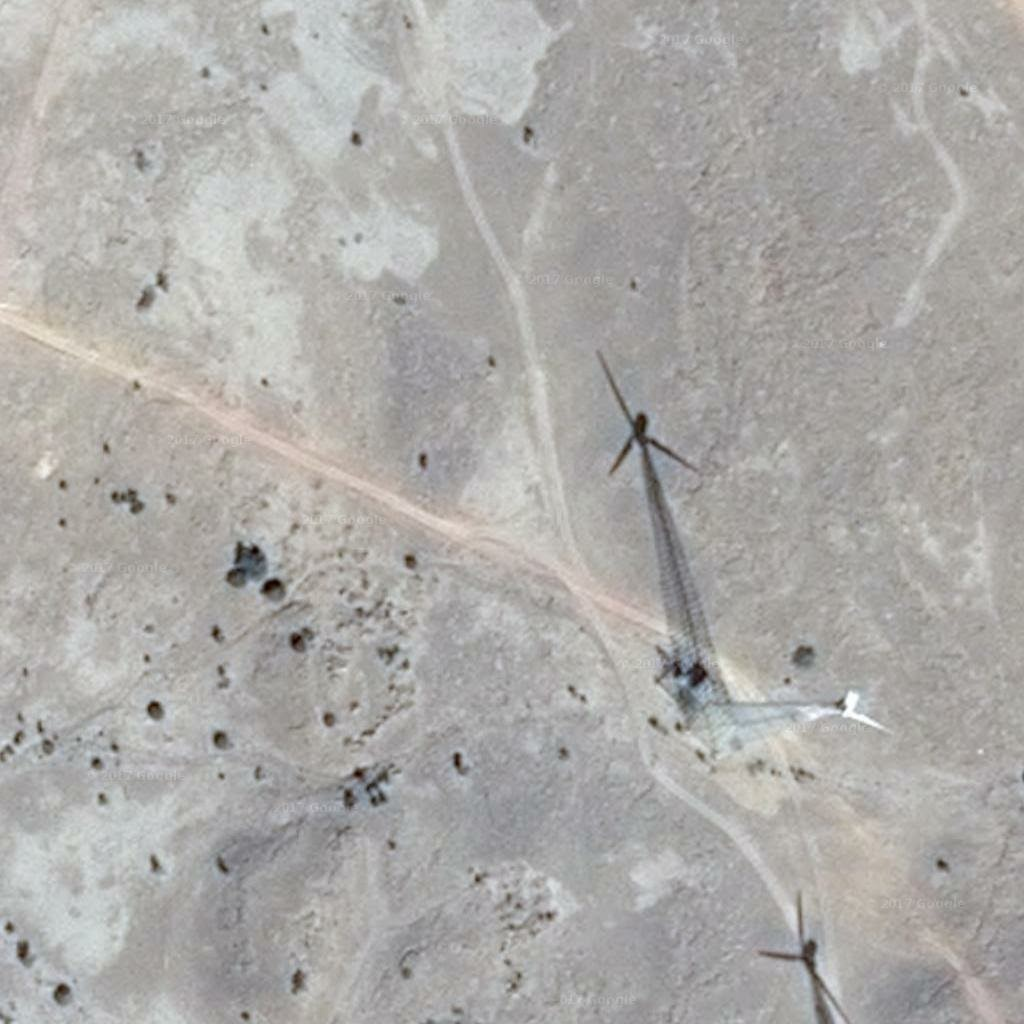Windmill: (588, 348, 716, 605)
